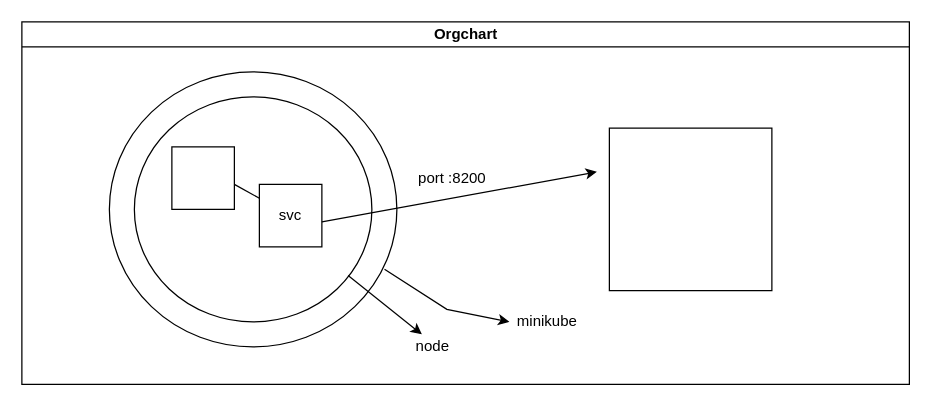
Some shapes in this 931 by 406 pixel diagram are drawn without their labels. The box of each missing label's shape, as (x1, y1, x2, y2) in pixels:
localhost:8200: (608, 127, 772, 291)
pod: (171, 146, 234, 209)
